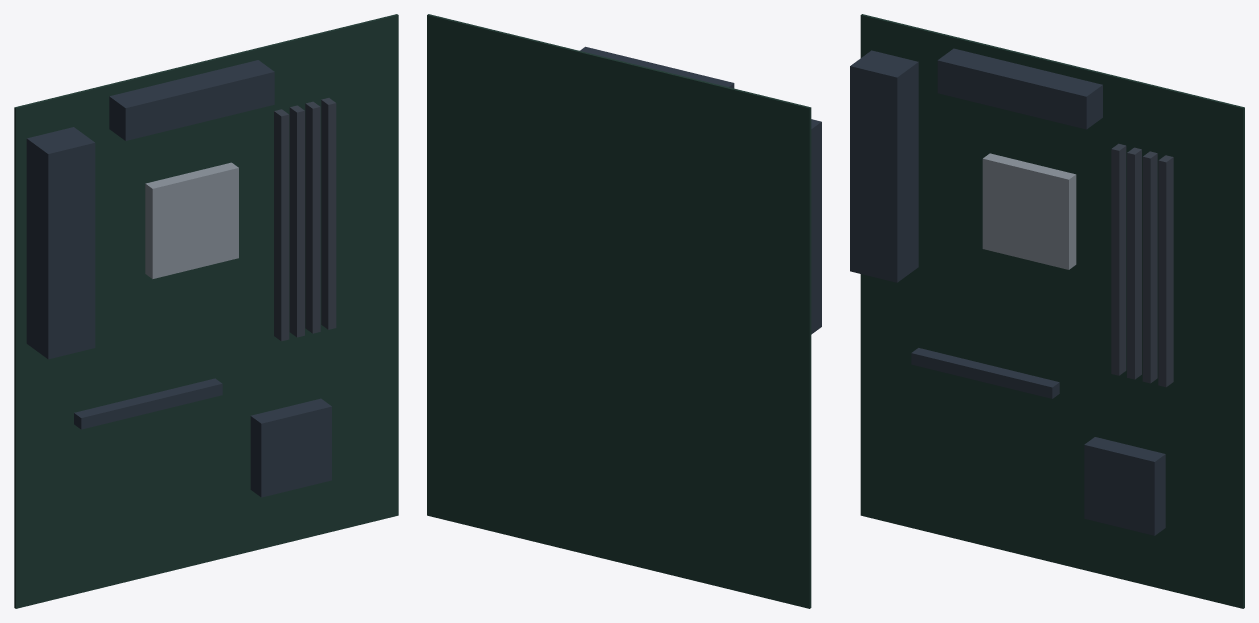
File: board-b650.glb
3 views of the same model, side by side, from view 1: azimuth 30°, elevation 25°; view 2: azimuth 150°, elevation 25°; view 3: azimuth 330°, elevation 25° (orthographic).
Parts seen in each view (by area): view 1: PCB, I/O heatsink, DIMM slot (×4), Socket envelope, VRM heatsink, Chipset heatsink, Primary PCIe slot; view 2: PCB, I/O heatsink, VRM heatsink; view 3: PCB, I/O heatsink, DIMM slot (×4), Socket envelope, VRM heatsink, Chipset heatsink, Primary PCIe slot.
Boxes of the visible parts, x1,y1,x2,y2 form: PCB: (14, 14, 398, 608); I/O heatsink: (26, 127, 95, 359); DIMM slot (×4): (274, 98, 336, 341); Socket envelope: (145, 162, 238, 278); VRM heatsink: (109, 60, 274, 140); Chipset heatsink: (250, 398, 331, 497); Primary PCIe slot: (74, 378, 222, 429); PCB: (427, 14, 811, 608); I/O heatsink: (811, 119, 821, 334); VRM heatsink: (580, 46, 734, 88); PCB: (860, 14, 1244, 608); I/O heatsink: (850, 50, 918, 282); DIMM slot (×4): (1111, 143, 1173, 387); Socket envelope: (982, 153, 1076, 269); VRM heatsink: (937, 48, 1102, 129); Chipset heatsink: (1084, 437, 1165, 535); Primary PCIe slot: (911, 348, 1059, 398).
Bounding box in the file's own units: 0.2438 × 0.3048 × 0.0253.
